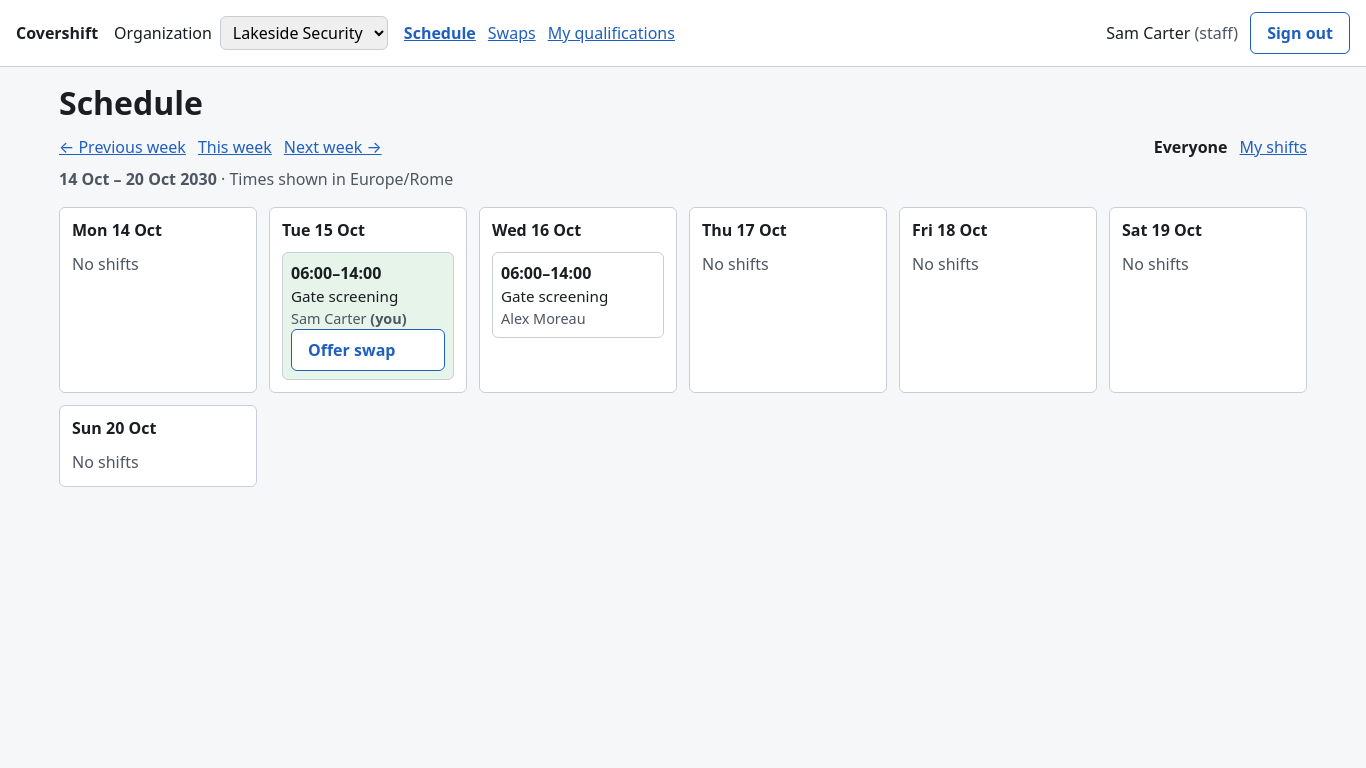
offering a shift › a direct offer sends shiftId, target and the trimmed note
Step 1. Click the button with aria-label "Offer swap: Gate screening" → click(368, 350), box [291, 329, 445, 371]
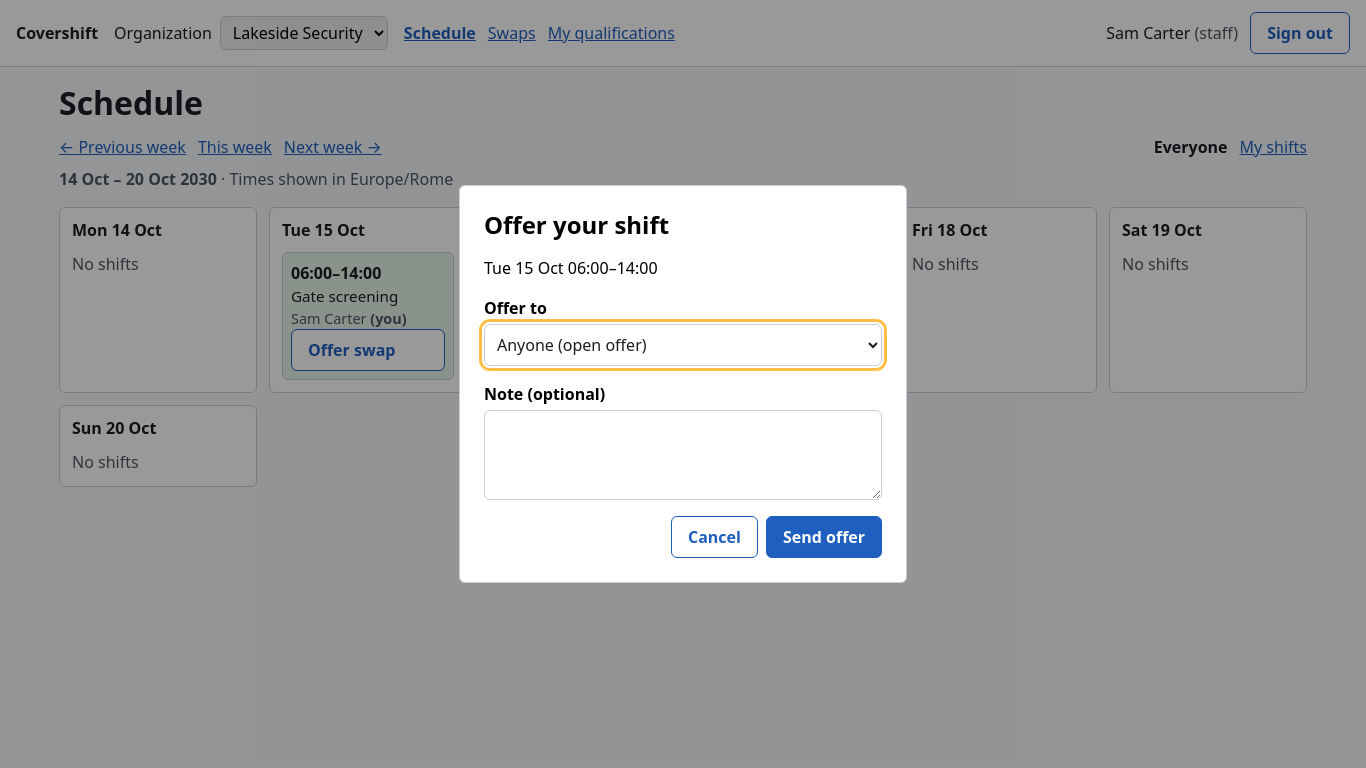
Step 2. Select "Alex Moreau" in the dropdown labelled "Offer to" → (683, 345), box [484, 324, 882, 366]
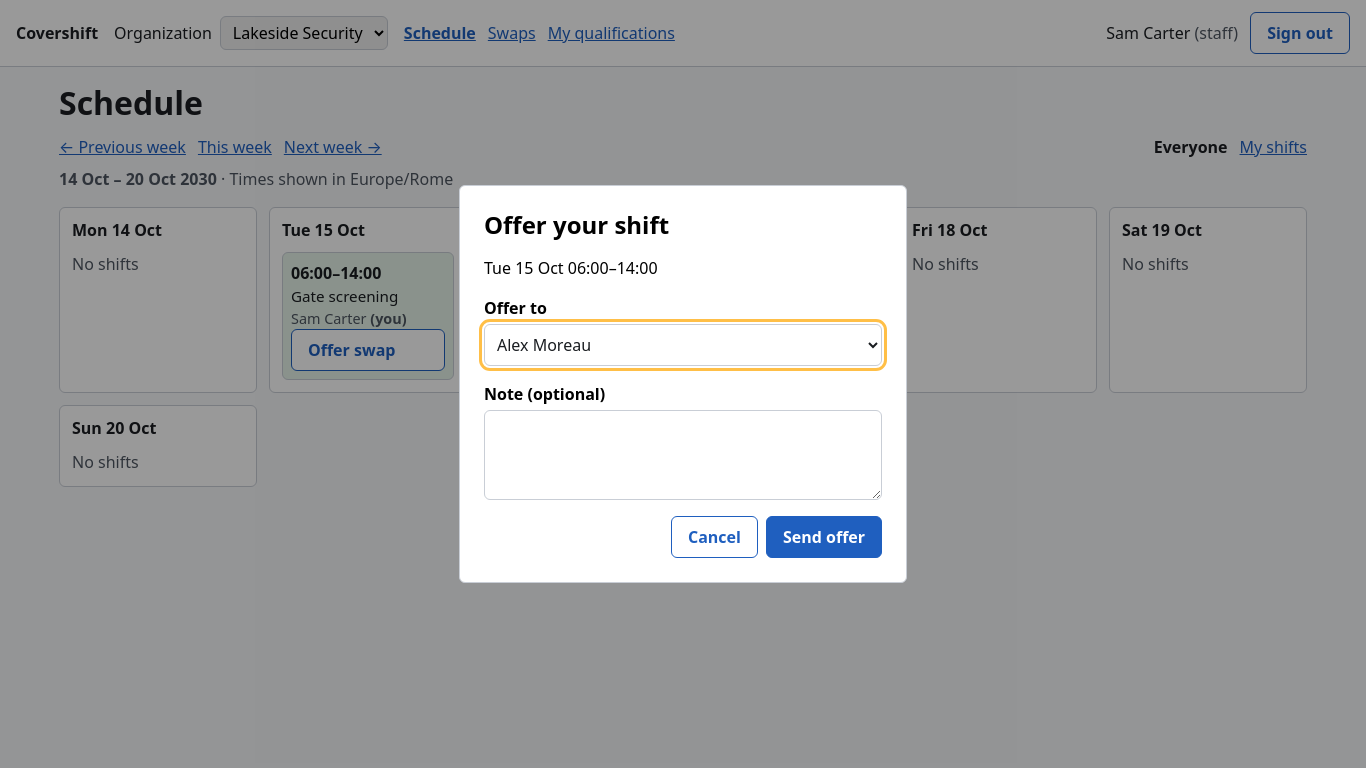
Step 3. Type "  Wedding  " into the text box labelled "Note (optional)" → (683, 455), box [484, 410, 882, 500]
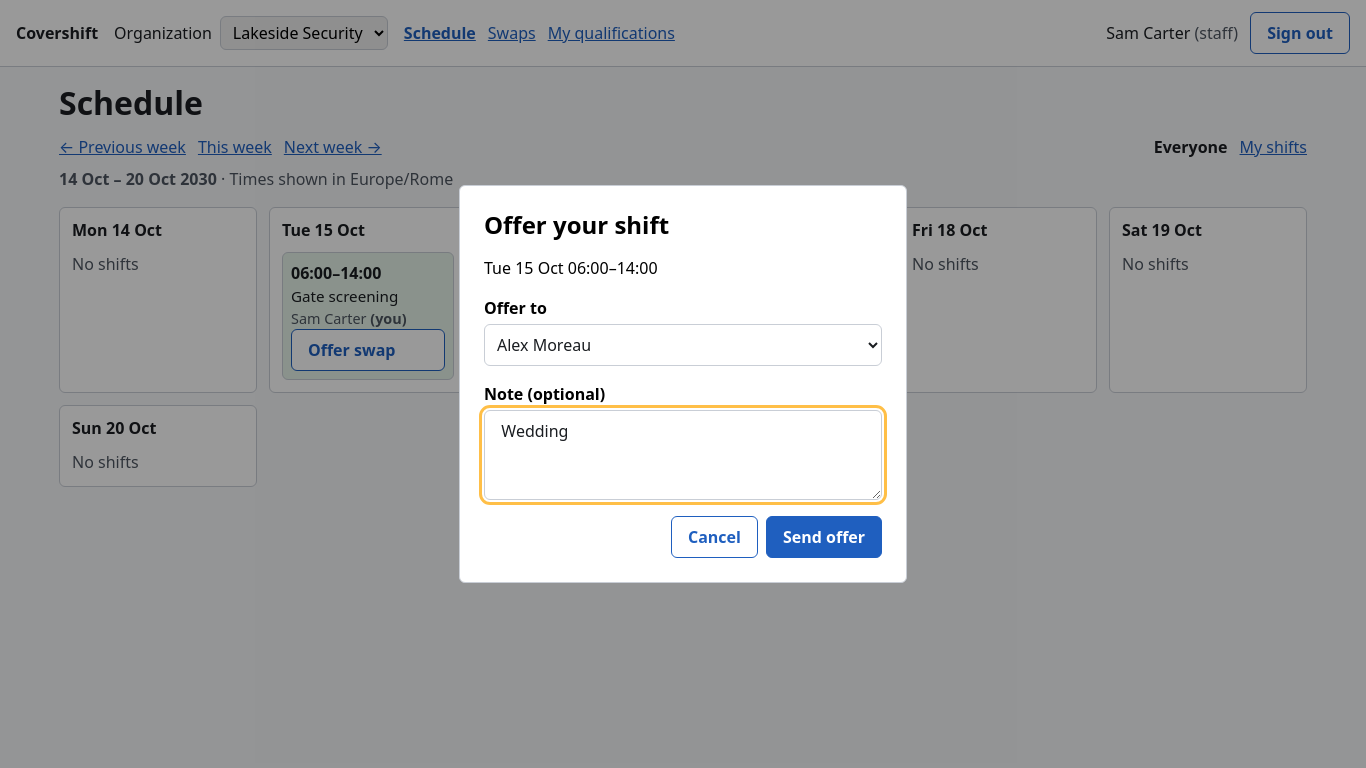
Step 4. Click the button "Send offer" → click(824, 537), box [766, 516, 882, 558]
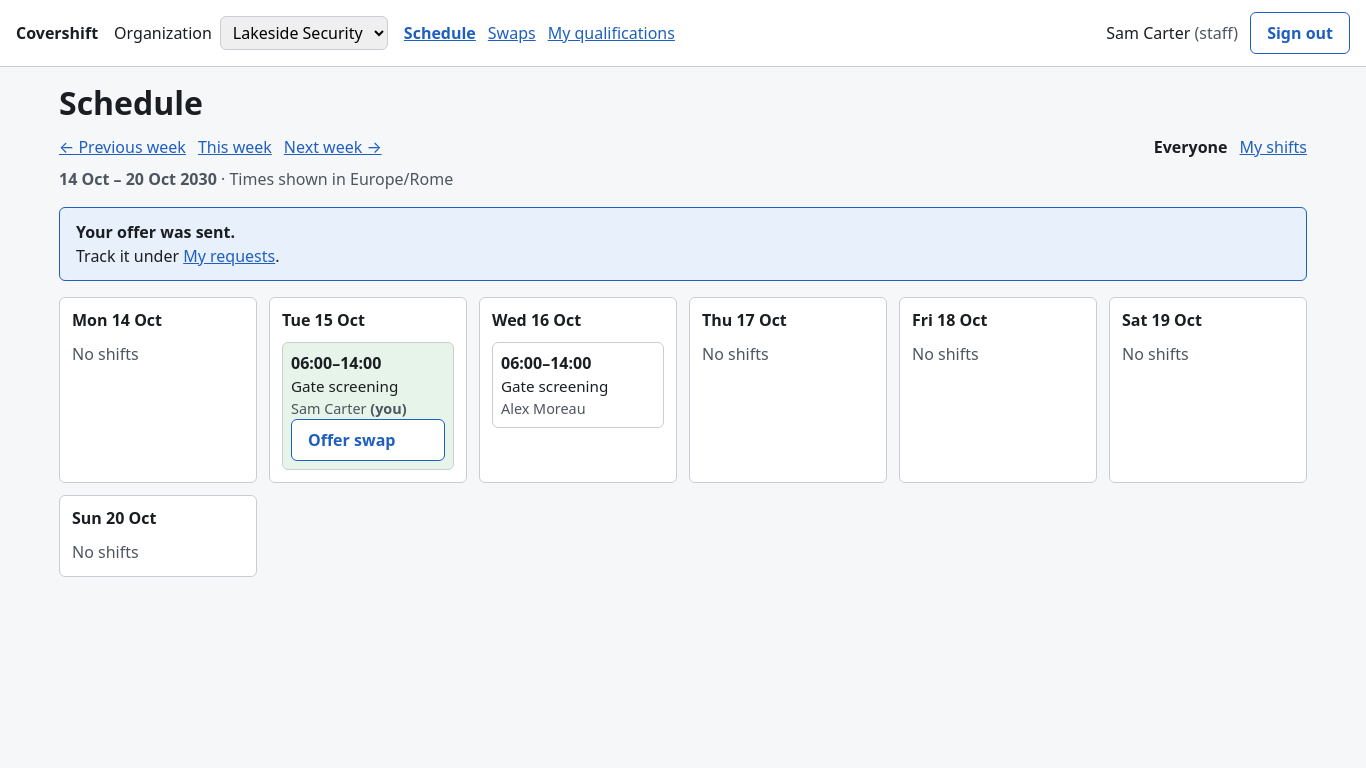
Expected: the text "Your offer was sent." is shown, [76, 221, 235, 243]
Expected: the dialog is gone
